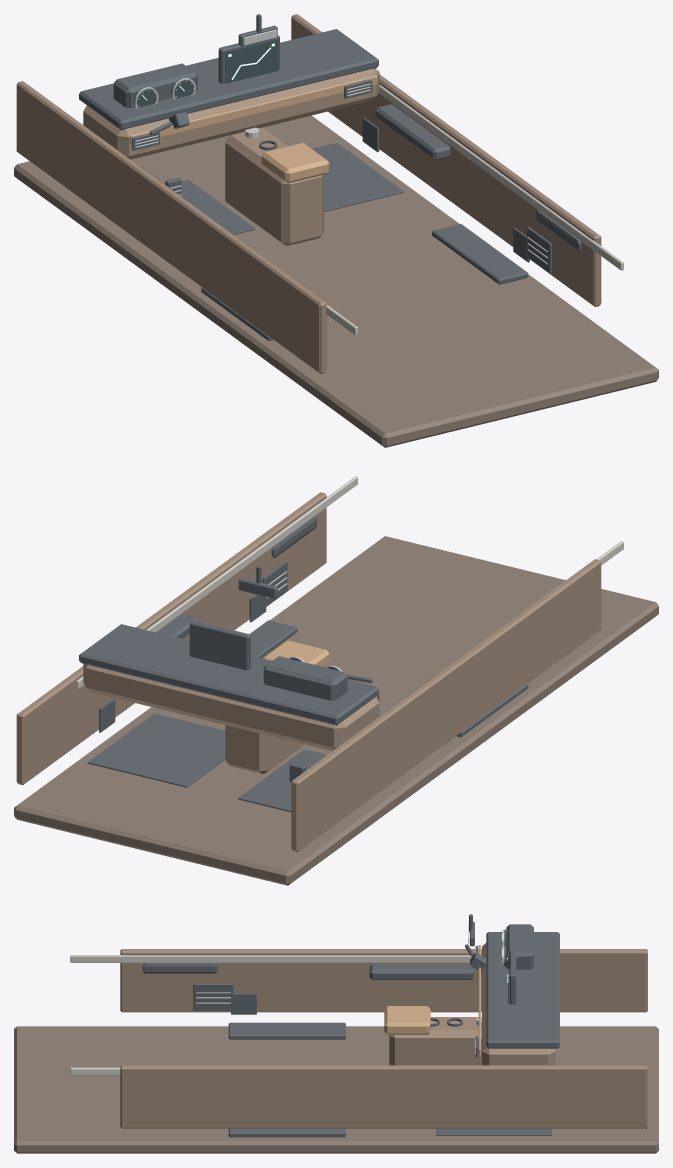
File: Interior.glb
The picture shows the model from 3 angles, top to bottom: view 1: azimuth 30°, elevation 25°; view 2: azimuth 150°, elevation 25°; view 3: azimuth 270°, elevation 25°; orthographic projection. The views are drawn at different scales.
Visible parts, largest first — view 1: Interior_CabinFloor, Interior_WalnutDashboard, Interior_CharcoalTrim, Interior_SandUpholstery, Interior_WarmIvory, Interior_ScreenBlack, Interior_MatteAlloy; view 2: Interior_CabinFloor, Interior_WalnutDashboard, Interior_CharcoalTrim, Interior_WarmIvory, Interior_SandUpholstery; view 3: Interior_WalnutDashboard, Interior_CabinFloor, Interior_CharcoalTrim, Interior_WarmIvory, Interior_SandUpholstery, Interior_MatteAlloy.
Boxes of the visible parts, <box> form: Interior_CabinFloor: <box>14,115,658,447</box>; Interior_WalnutDashboard: <box>16,14,601,373</box>; Interior_CharcoalTrim: <box>79,14,581,340</box>; Interior_SandUpholstery: <box>130,75,377,183</box>; Interior_WarmIvory: <box>326,85,623,335</box>; Interior_ScreenBlack: <box>134,39,278,107</box>; Interior_MatteAlloy: <box>134,29,547,264</box>; Interior_CabinFloor: <box>14,536,658,885</box>; Interior_WalnutDashboard: <box>16,492,601,851</box>; Interior_CharcoalTrim: <box>79,516,528,812</box>; Interior_WarmIvory: <box>76,476,623,688</box>; Interior_SandUpholstery: <box>263,640,377,698</box>; Interior_WalnutDashboard: <box>120,943,647,1128</box>; Interior_CabinFloor: <box>14,1026,658,1153</box>; Interior_CharcoalTrim: <box>142,914,559,1137</box>; Interior_WarmIvory: <box>70,955,481,1075</box>; Interior_SandUpholstery: <box>384,931,502,1056</box>; Interior_MatteAlloy: <box>196,923,504,1054</box>.
Size of the model in its own units: 1.96 by 1.38 by 4.46.
